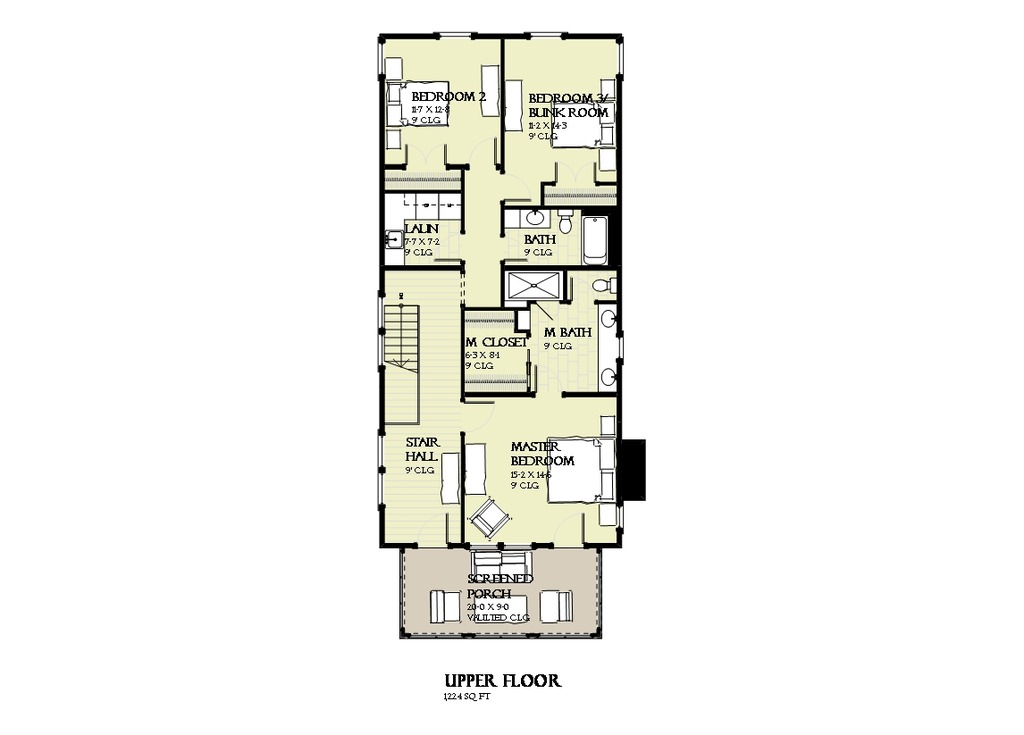large_sink: (586, 269, 619, 295), (555, 203, 578, 235)
small_sink: (590, 304, 624, 392), (515, 207, 554, 230)
small_sofa: (472, 502, 514, 538)
stairs: (382, 302, 424, 424)
tub: (579, 214, 608, 266)
windows: (374, 432, 386, 513), (432, 29, 478, 42), (528, 31, 566, 41)
